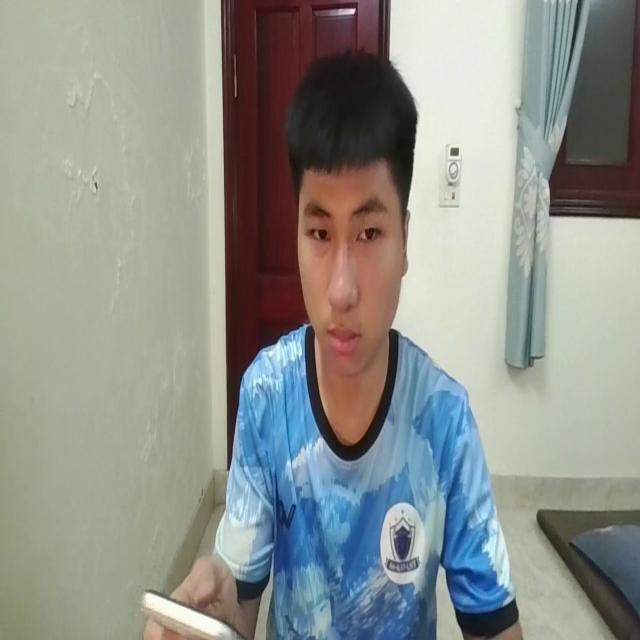phone: (141, 579, 244, 640)
student: (144, 41, 522, 640)
